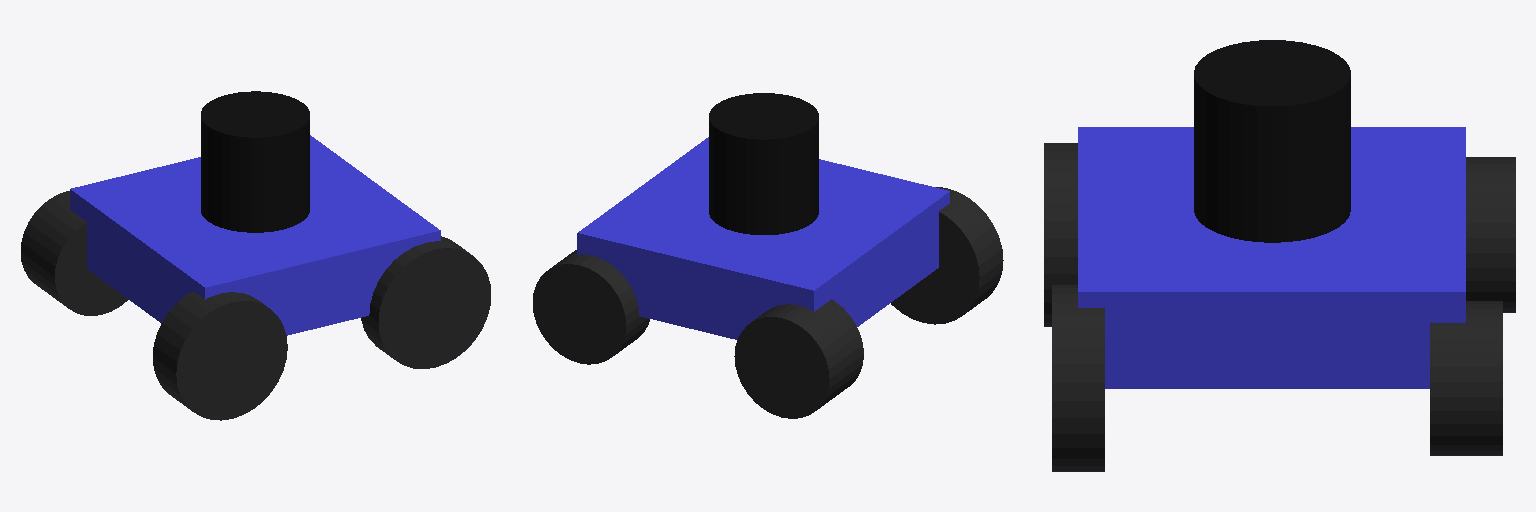
The robot description file, URDF, robot "evolved_robot":
<?xml version="1.0"?>
<robot name="evolved_robot">
  <material name="metal">
    <color rgba="0.7 0.7 0.7 1.0"/>
  </material>
  <material name="plastic">
    <color rgba="0.3 0.3 0.9 1.0"/>
  </material>
  <material name="rubber">
    <color rgba="0.1 0.1 0.1 1.0"/>
  </material>
  <material name="red">
    <color rgba="1.0 0.0 0.0 1.0"/>
  </material>
  <material name="wheel_material">
    <color rgba="0.2 0.2 0.2 1.0"/>
  </material>
  <link name="base_link">
    <visual>
      <geometry><box size="0.31577586228805876 0.31446107182327965 0.08684391380071729"/></geometry>
      <material name="plastic"/>
    </visual>
    <collision>
      <geometry><box size="0.31577586228805876 0.31446107182327965 0.08684391380071729"/></geometry>
    </collision>
    <inertial>
      <mass value="5.0"/>
      <inertia ixx="0.08868969254706022" ixy="0" ixz="0" 
               iyy="0.08938021713999456" iyz="0" 
               izz="0.16550013408001074"/>
    </inertial>
  </link>
  <link name="link1">
    <visual>
      <geometry>
        <cylinder radius="0.06255185810306499" length="0.059851785901877536"/>
      </geometry>
      <material name="wheel_material"/>
    </visual>
    <collision>
      <geometry>
        <cylinder radius="0.06255185810306499" length="0.059851785901877536"/>
      </geometry>
    </collision>
    <inertial>
      <mass value="1.0"/>
      <inertia ixx="0.0012767034276735098" ixy="0" ixz="0" 
               iyy="0.0012767034276735098" iyz="0" 
               izz="0.0019563674760729884"/>
    </inertial>
  </link>
  <joint name="joint1" type="continuous">
    <parent link="base_link"/>
    <child link="link1"/>
    <origin xyz="0.1378879311440294 0.15723053591163982 -0.043421956900358646" rpy="1.5708 0 0"/>
    <axis xyz="0 0 1"/>
    <dynamics damping="0.7795040315595899" friction="0.1"/>
  </joint>
  <link name="link2">
    <visual>
      <geometry>
        <cylinder radius="0.07578756342487761" length="0.042797147168368375"/>
      </geometry>
      <material name="wheel_material"/>
    </visual>
    <collision>
      <geometry>
        <cylinder radius="0.07578756342487761" length="0.042797147168368375"/>
      </geometry>
    </collision>
    <inertial>
      <mass value="1.0"/>
      <inertia ixx="0.0015885716762825432" ixy="0" ixz="0" 
               iyy="0.0015885716762825432" iyz="0" 
               izz="0.002871877384939923"/>
    </inertial>
  </link>
  <joint name="joint2" type="continuous">
    <parent link="base_link"/>
    <child link="link2"/>
    <origin xyz="0.1378879311440294 -0.15723053591163982 -0.043421956900358646" rpy="1.5708 0 0"/>
    <axis xyz="0 0 1"/>
    <dynamics damping="0.9332973929305248" friction="0.1"/>
  </joint>
  <link name="link3">
    <visual>
      <geometry>
        <cylinder radius="0.06341371124760828" length="0.07953457771954003"/>
      </geometry>
      <material name="wheel_material"/>
    </visual>
    <collision>
      <geometry>
        <cylinder radius="0.06341371124760828" length="0.07953457771954003"/>
      </geometry>
    </collision>
    <inertial>
      <mass value="1.0"/>
      <inertia ixx="0.0015324704479675565" ixy="0" ixz="0" 
               iyy="0.0015324704479675565" iyz="0" 
               izz="0.0020106493870975205"/>
    </inertial>
  </link>
  <joint name="joint3" type="continuous">
    <parent link="base_link"/>
    <child link="link3"/>
    <origin xyz="-0.1378879311440294 0.15723053591163982 -0.043421956900358646" rpy="1.5708 0 0"/>
    <axis xyz="0 0 1"/>
    <dynamics damping="0.43936669472471734" friction="0.1"/>
  </joint>
  <link name="link4">
    <visual>
      <geometry>
        <cylinder radius="0.07483854874119761" length="0.05495786161961812"/>
      </geometry>
      <material name="wheel_material"/>
    </visual>
    <collision>
      <geometry>
        <cylinder radius="0.07483854874119761" length="0.05495786161961812"/>
      </geometry>
    </collision>
    <inertial>
      <mass value="1.0"/>
      <inertia ixx="0.0016518993072389104" ixy="0" ixz="0" 
               iyy="0.0016518993072389104" iyz="0" 
               izz="0.002800404188844305"/>
    </inertial>
  </link>
  <joint name="joint4" type="continuous">
    <parent link="base_link"/>
    <child link="link4"/>
    <origin xyz="-0.1378879311440294 -0.15723053591163982 -0.043421956900358646" rpy="1.5708 0 0"/>
    <axis xyz="0 0 1"/>
    <dynamics damping="0.705928613193815" friction="0.1"/>
  </joint>
  <link name="link5">
    <visual>
      <geometry><cylinder radius="0.06380364915251695" length="0.24381854726456892"/></geometry>
      <material name="rubber"/>
    </visual>
    <collision>
      <geometry><cylinder radius="0.06380364915251695" length="0.24381854726456892"/></geometry>
    </collision>
    <inertial>
      <mass value="0.5"/>
      <inertia ixx="0.005971683410478105" ixy="0" ixz="0" 
               iyy="0.005971683410478105" iyz="0" 
               izz="0.002035452822588738"/>
    </inertial>
  </link>
  <joint name="joint5" type="prismatic">
    <parent link="base_link"/>
    <child link="link5"/>
    <origin xyz="0 0 0.043421956900358646" rpy="0 0 0"/>
    <axis xyz="0.0015383201481582501 0.9195942262855954 0.39286650729391376"/>
    <dynamics damping="0.679806887575297" friction="0.1"/>
    <limit lower="-0.8443760477989789" upper="1.1447330603144588" effort="100" velocity="100"/>
  </joint>
</robot>

--- What the picture shows (computed from the rendered views, not written in the file) ---
The picture shows the robot from 3 angles, left to right: view 1: azimuth 30°, elevation 25°; view 2: azimuth 150°, elevation 25°; view 3: azimuth 270°, elevation 25°; orthographic projection.
Model evolved_robot with 6 links and 5 joints (4 continuous, 1 prismatic), rooted at base_link, posed every joint at zero.
Links seen in each view (by area): view 1: base_link, link5, link4, link2, link3; view 2: base_link, link5, link3, link1, link4; view 3: base_link, link5, link1, link2, link3, link4.
Link boxes in pixels (box(x1,y1,x2,y2)): base_link: box(70, 135, 440, 335); link5: box(201, 91, 309, 232); link4: box(153, 291, 287, 420); link2: box(361, 236, 490, 368); link3: box(21, 191, 128, 315); base_link: box(577, 137, 949, 339); link5: box(709, 93, 818, 234); link3: box(734, 299, 863, 418); link1: box(533, 250, 649, 364); link4: box(891, 187, 1003, 324); base_link: box(1078, 127, 1465, 388); link5: box(1194, 40, 1350, 242); link1: box(1430, 301, 1502, 455); link2: box(1052, 285, 1104, 471); link3: box(1466, 157, 1515, 312); link4: box(1044, 143, 1077, 326).
Size in the robot's own frame: 0.4264 by 0.3817 by 0.2845 metres.
Geometry: primitives only (box / cylinder / sphere), no mesh files.